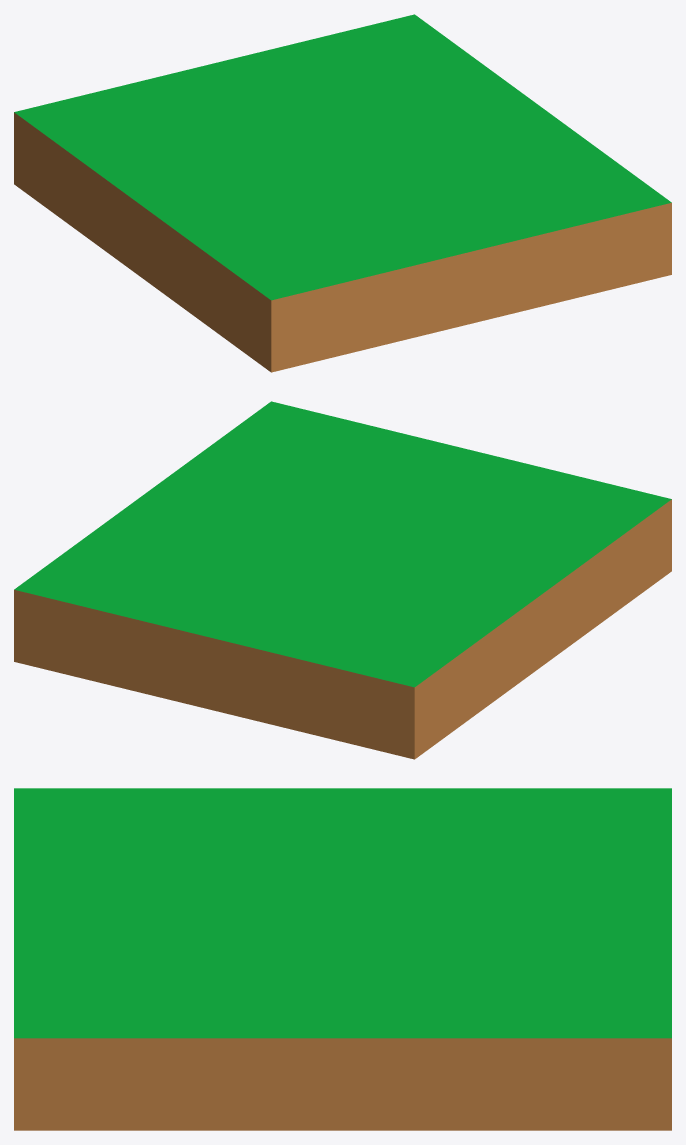
File: grass_platform_01.glb
3 renders of one model, top to bottom at view 1: azimuth 30°, elevation 25°; view 2: azimuth 150°, elevation 25°; view 3: azimuth 270°, elevation 25°, orthographic. The views are drawn at different scales.
Visible parts, largest first — view 1: platform_001; view 2: platform_001; view 3: platform_001.
Boxes of the visible parts, <box> form: platform_001: <box>14,14,671,372</box>; platform_001: <box>14,401,671,759</box>; platform_001: <box>14,788,671,1130</box>.
Bounding box in the file's own units: 5.81 × 1 × 6.46.
1 material, 1 textured.
